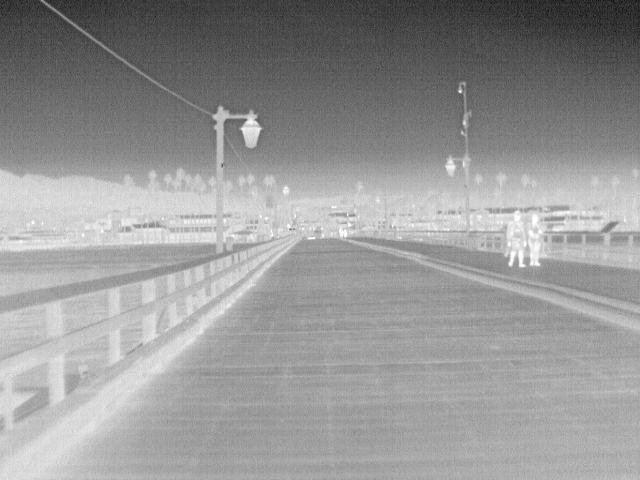person: (507, 211, 528, 268), (528, 211, 544, 268)
